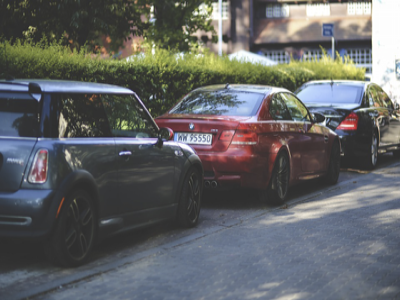licence: (175, 128, 214, 147)
